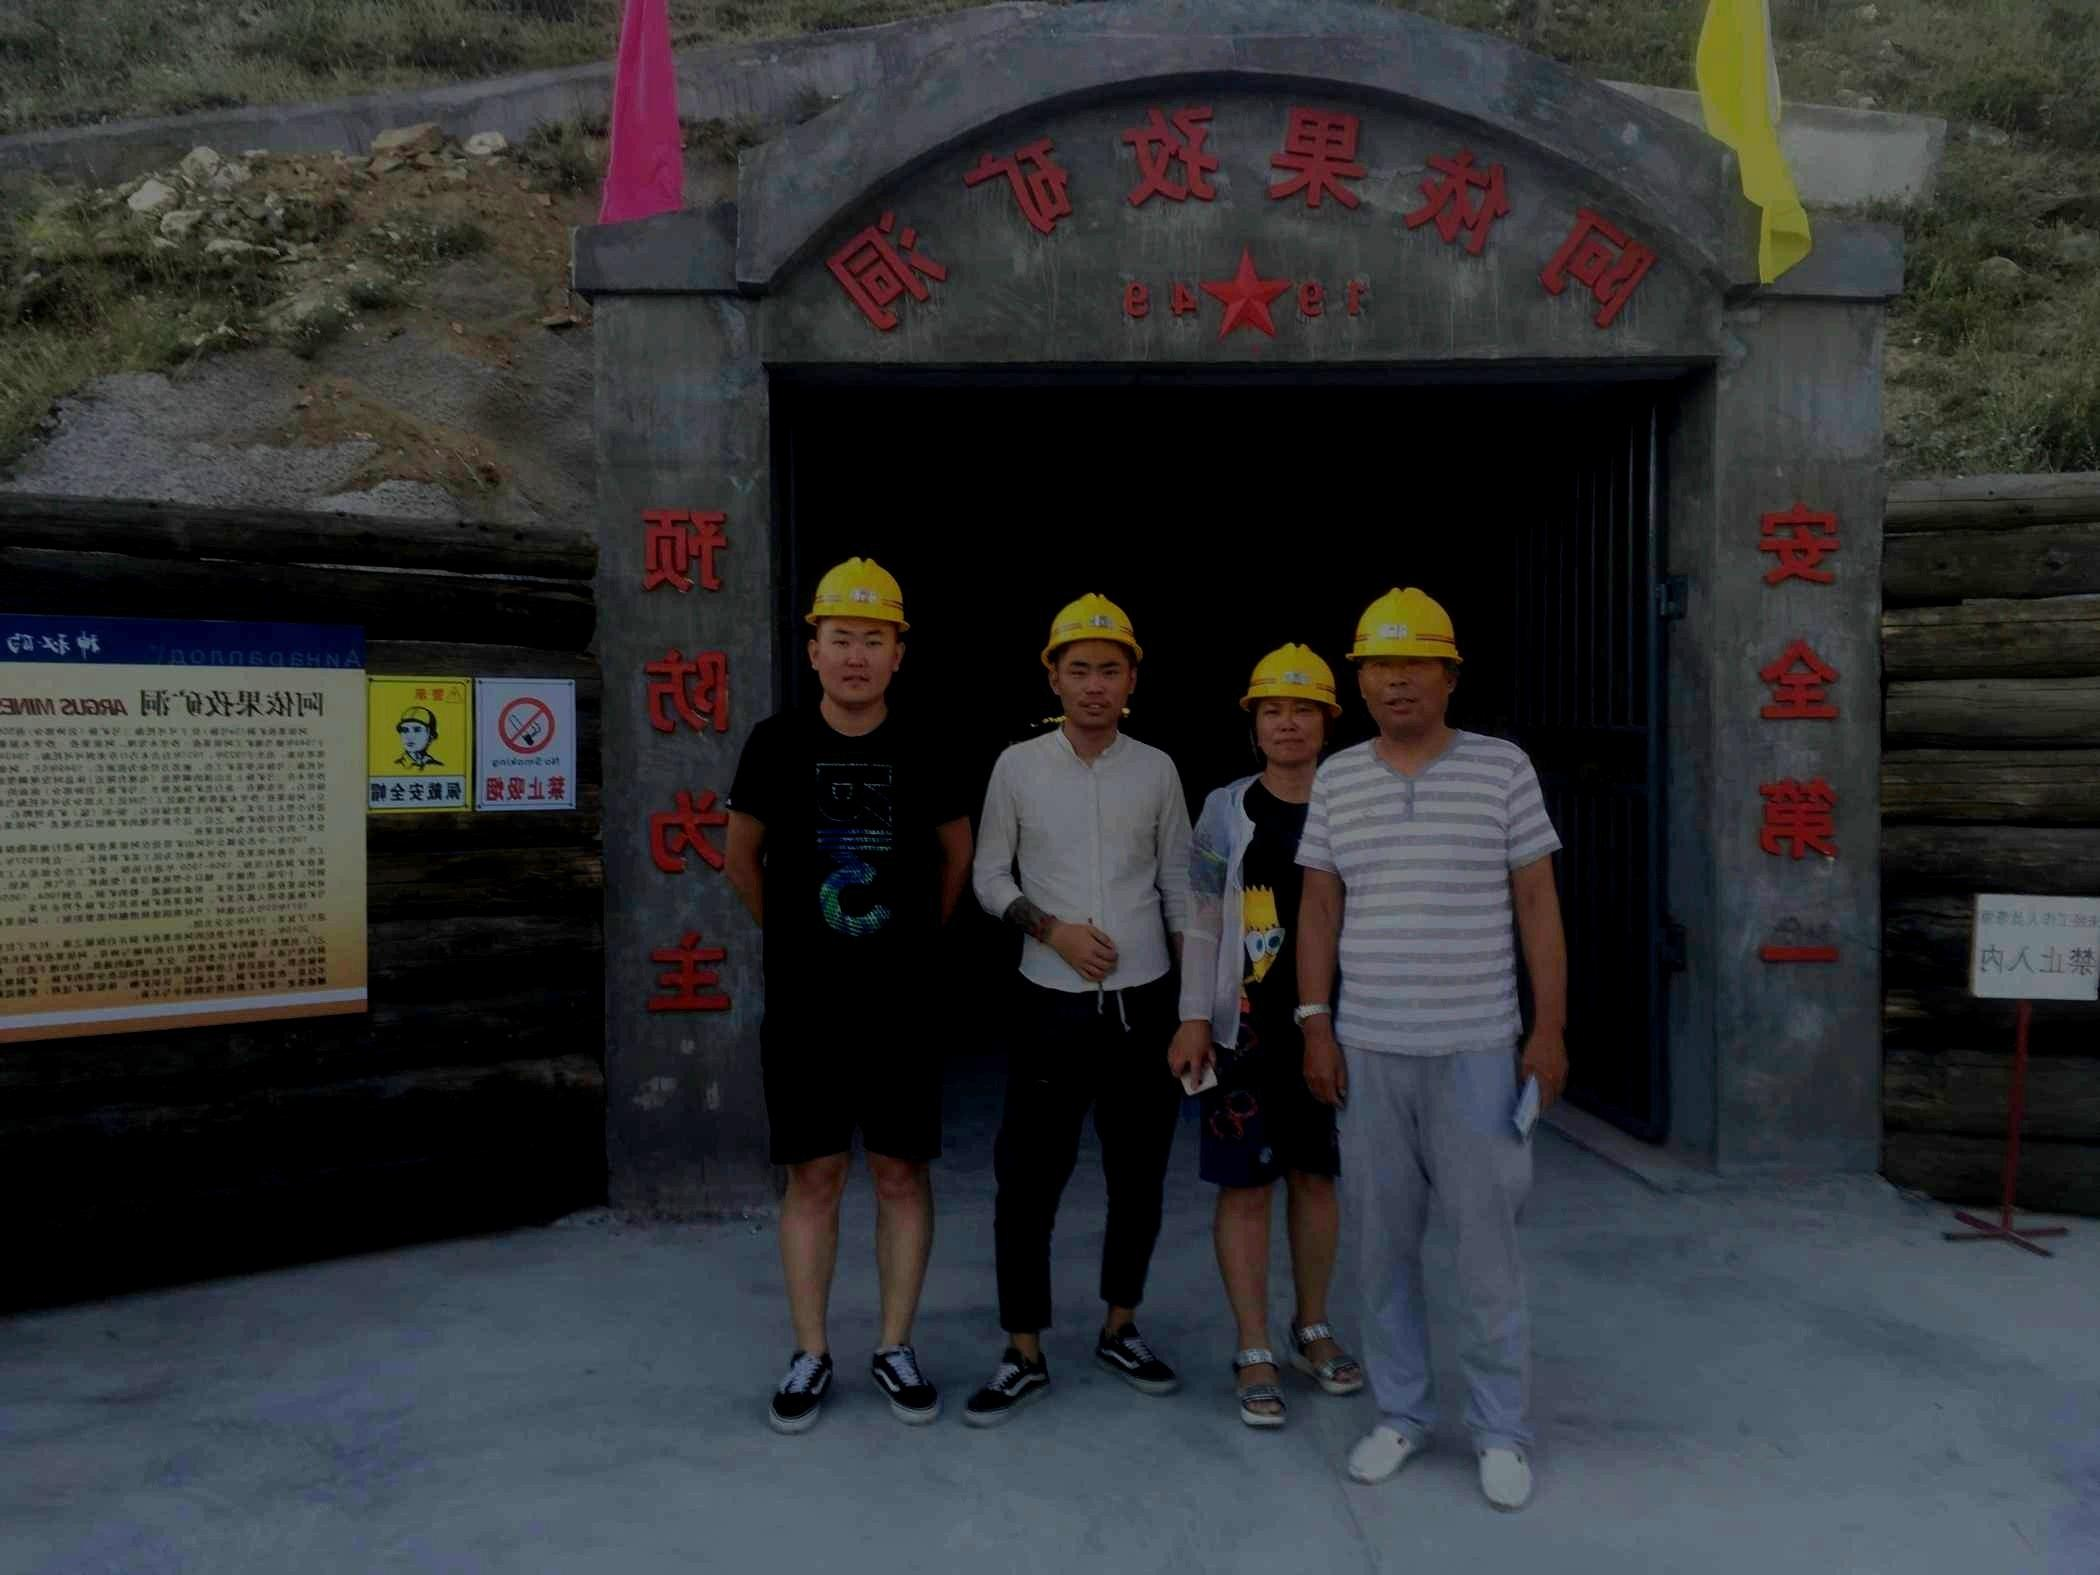helmet: (1346, 587, 1463, 730), (804, 556, 909, 705), (1042, 592, 1144, 726), (1240, 644, 1341, 764)
